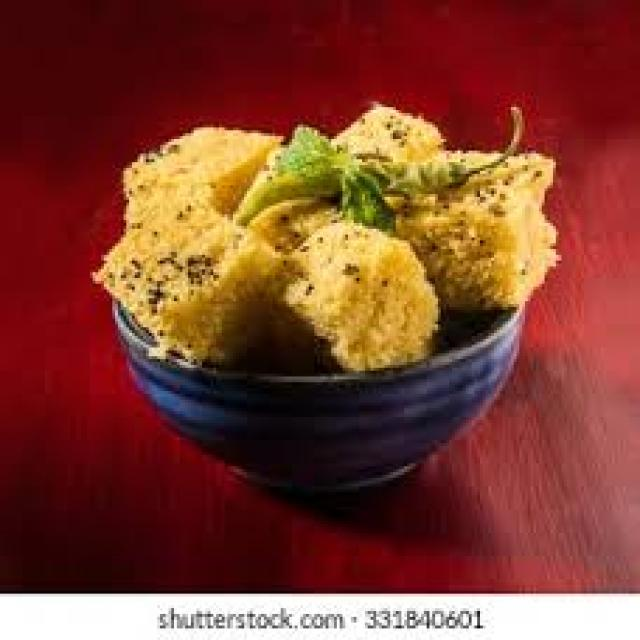DHOKLA: (93, 185, 281, 359), (399, 153, 556, 307), (284, 220, 438, 368), (124, 127, 278, 217)
